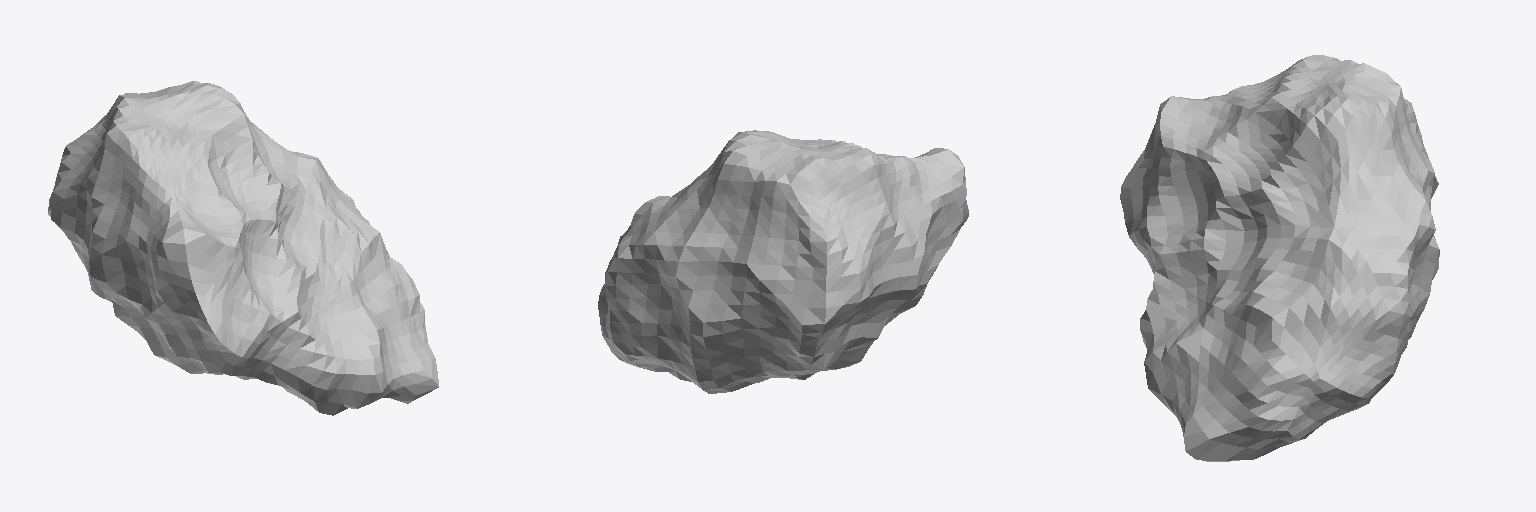
File: asteroid_002.obj
3 renders of one model, left to right at view 1: azimuth 30°, elevation 25°; view 2: azimuth 150°, elevation 25°; view 3: azimuth 270°, elevation 25°, orthographic.
Parts seen in each view (by area): view 1: rock; view 2: rock; view 3: rock.
Boxes of the visible parts, x1,y1,x2,y2 form: rock: [48, 81, 438, 415]; rock: [598, 130, 968, 393]; rock: [1120, 55, 1439, 461].
Size of the model in its own units: 3.4 by 3.08 by 2.98.